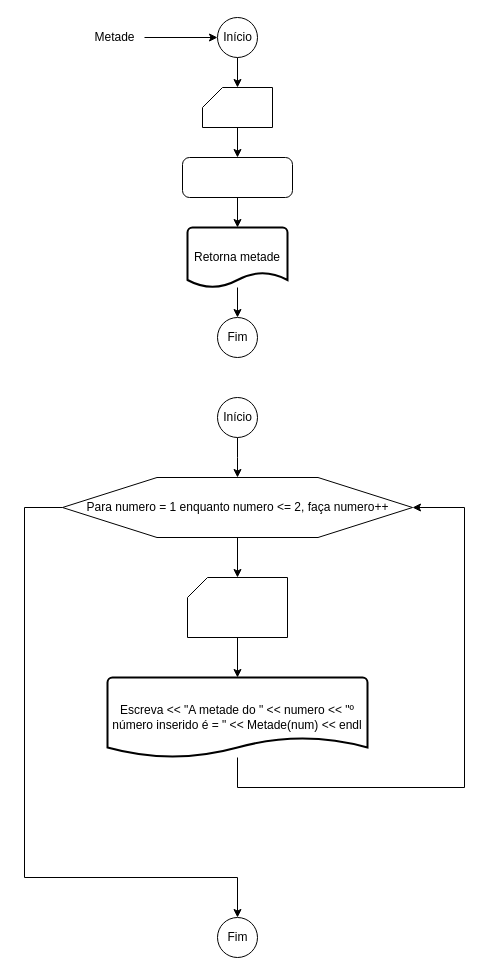
Image size: 490x975. Some labels were removed from this diagram. Here are the shapes that lost their labels. From the top down, the box of each, then its label:
(202, 86, 272, 128): num
(182, 156, 292, 198): metade = num / 2
(186, 576, 288, 638): Leia num
